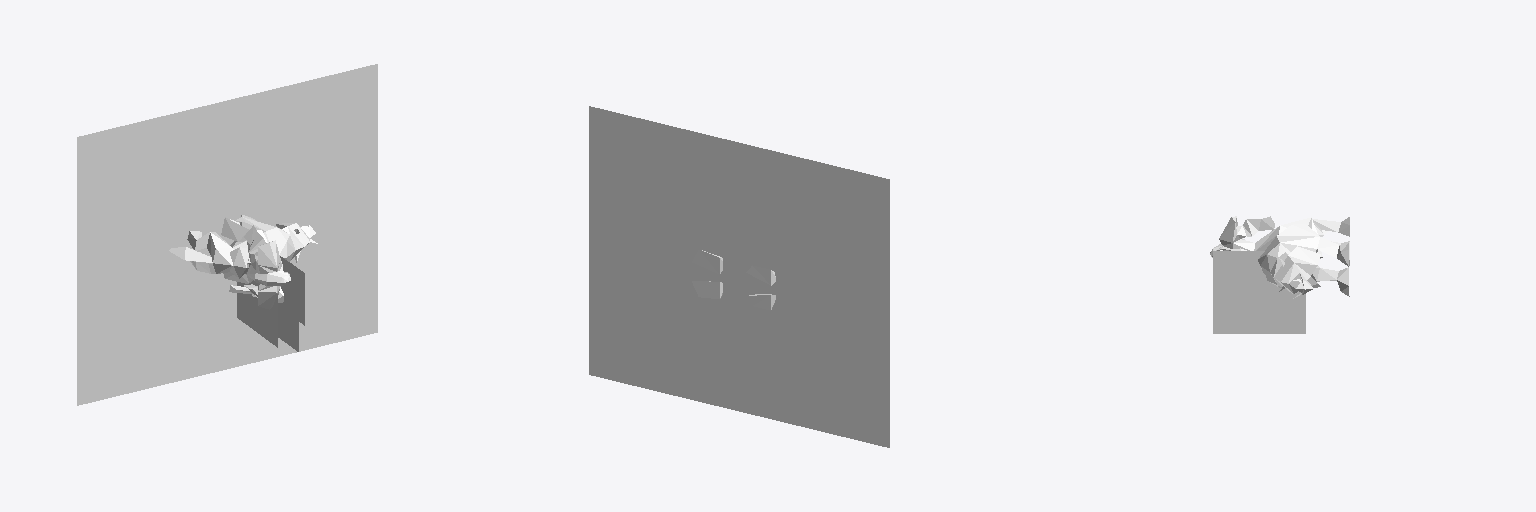
Rendered from Thrall.OBJ.
3 views of the same model, side by side, from view 1: azimuth 30°, elevation 25°; view 2: azimuth 150°, elevation 25°; view 3: azimuth 270°, elevation 25° (orthographic).
Visible parts, largest first — view 1: Converted object 2, Thrall, Converted object 1; view 2: Converted object 2, Thrall; view 3: Thrall, Converted object 2.
Boxes of the visible parts, box(x1,y1,x2,y2) form: Converted object 2: box(77, 64, 377, 405); Thrall: box(169, 215, 317, 309); Converted object 1: box(213, 227, 289, 293); Converted object 2: box(589, 106, 889, 447); Thrall: box(692, 250, 775, 310); Thrall: box(1210, 216, 1349, 298); Converted object 2: box(1213, 251, 1305, 333).
Bounding box in the file's own units: 400 × 342 × 162.